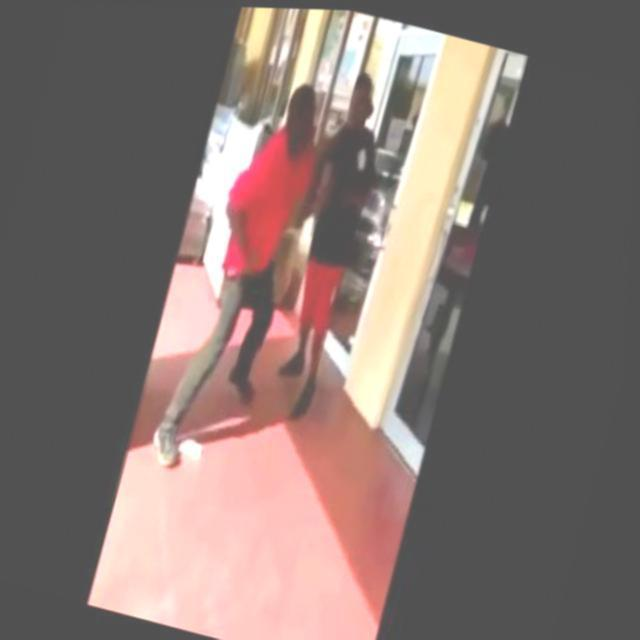fight: (154, 38, 407, 495)
